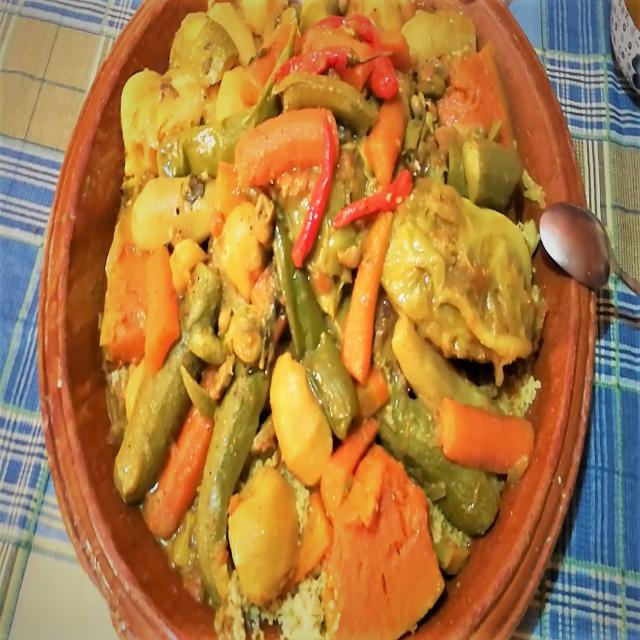Couscous: (102, 4, 551, 640)
